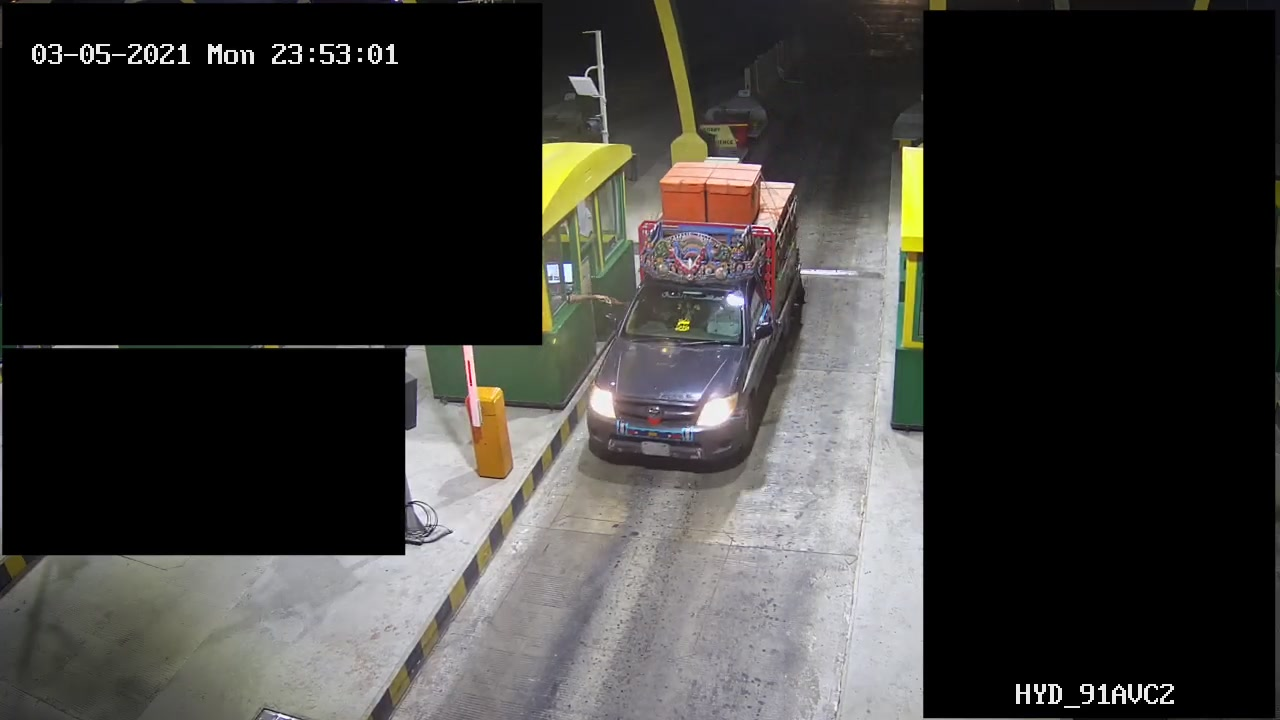F2: (583, 163, 813, 484)
